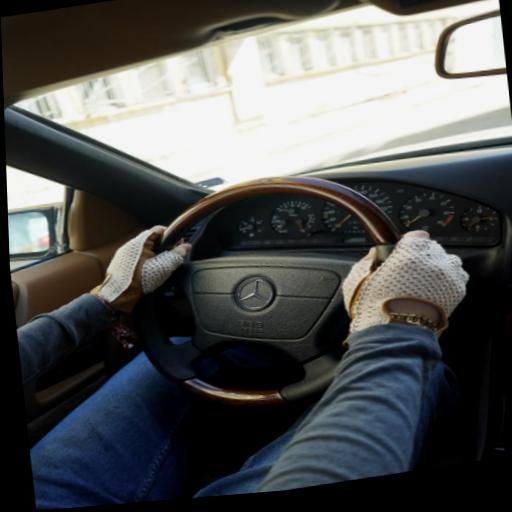Hands-on-the-Wheel: (296, 195, 504, 357), (53, 208, 242, 320)
